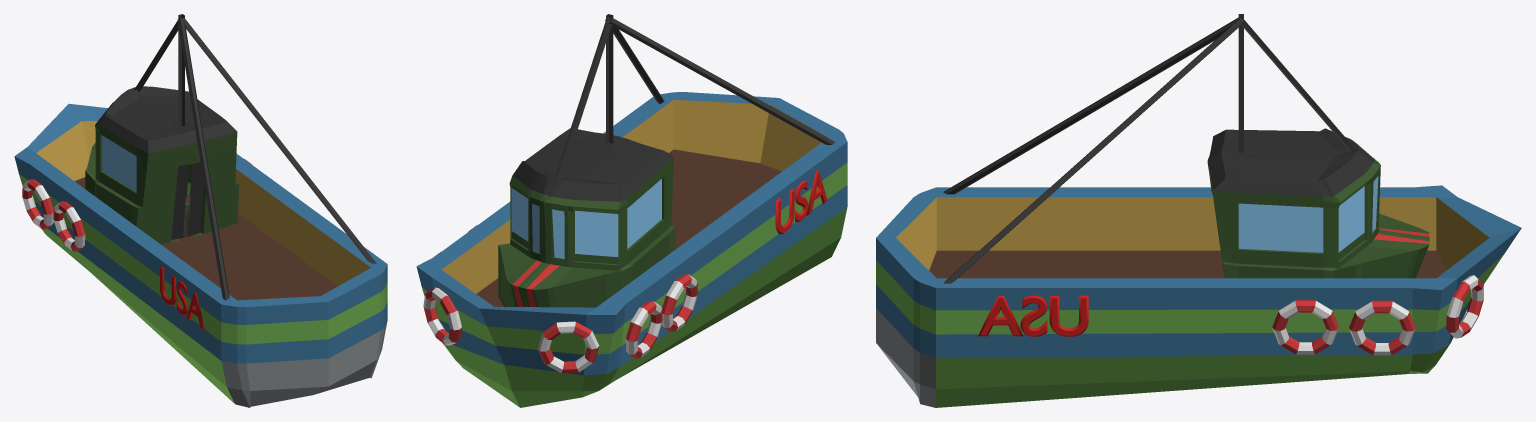
Rendered from statek5.fbx.
3 views of the same model, side by side, from view 1: azimuth 30°, elevation 25°; view 2: azimuth 150°, elevation 25°; view 3: azimuth 270°, elevation 25° (orthographic). The views are drawn at different scales.
Parts seen in each view (by area): view 1: Cube.002; view 2: Cube.002; view 3: Cube.002.
Boxes of the visible parts, bbox=[...] form: Cube.002: bbox=[14, 14, 387, 407]; Cube.002: bbox=[416, 14, 847, 407]; Cube.002: bbox=[876, 14, 1521, 407].
Size of the model in its own units: 3.25 by 4.7 by 7.82.
